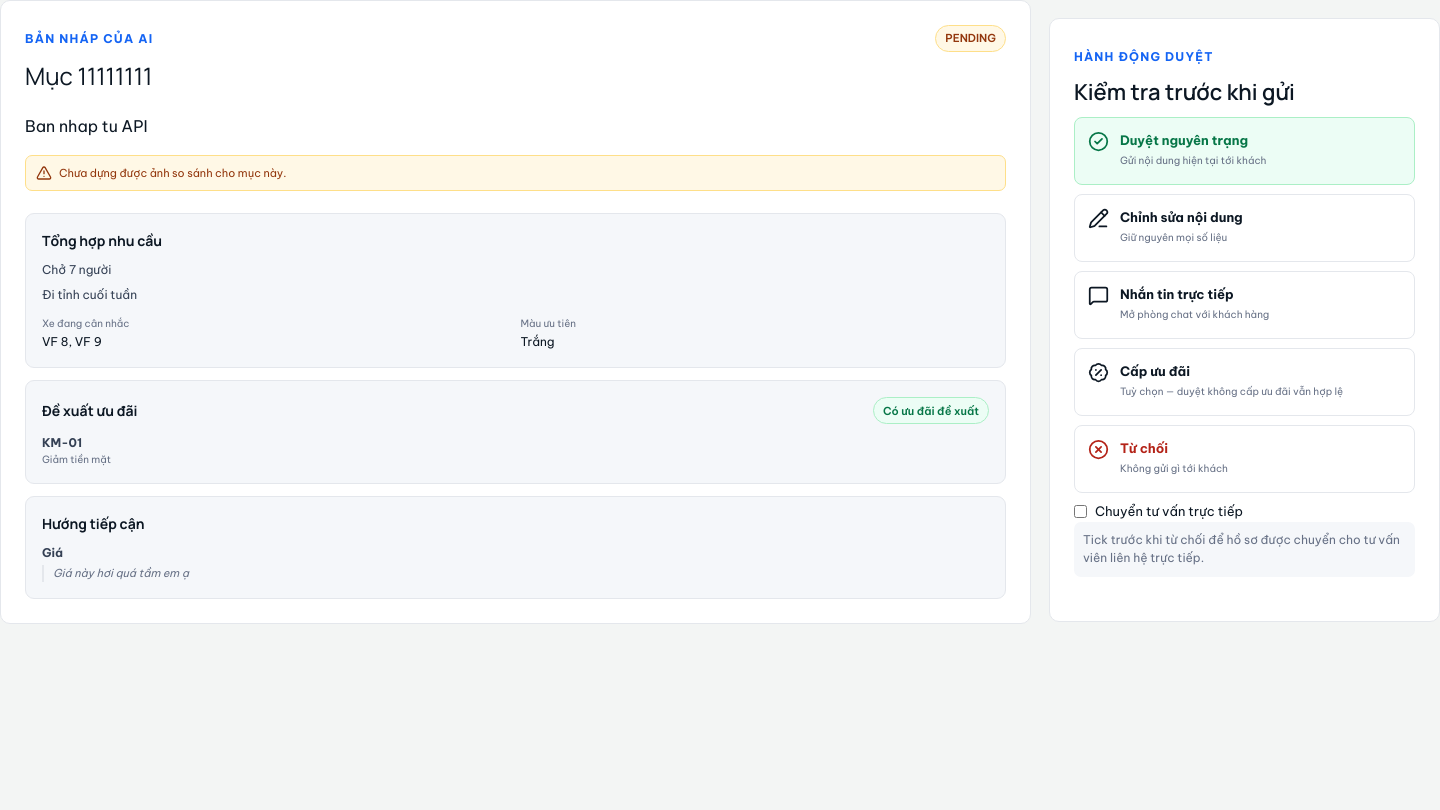
it: AdvisorReviewPanel — cấp ưu đãi là tuỳ chọn (D12) › duyệt nguyên trạng không cần chạm ưu đãi
The image size is (1440, 810).
Expected: the text "Ban nhap tu API" is shown, [25,116,148,136]
Click the button "Duyệt nguyên trạng Gửi nội dung hiện tại tới khách".
click(1244, 151)  # box [1074,117,1415,185]
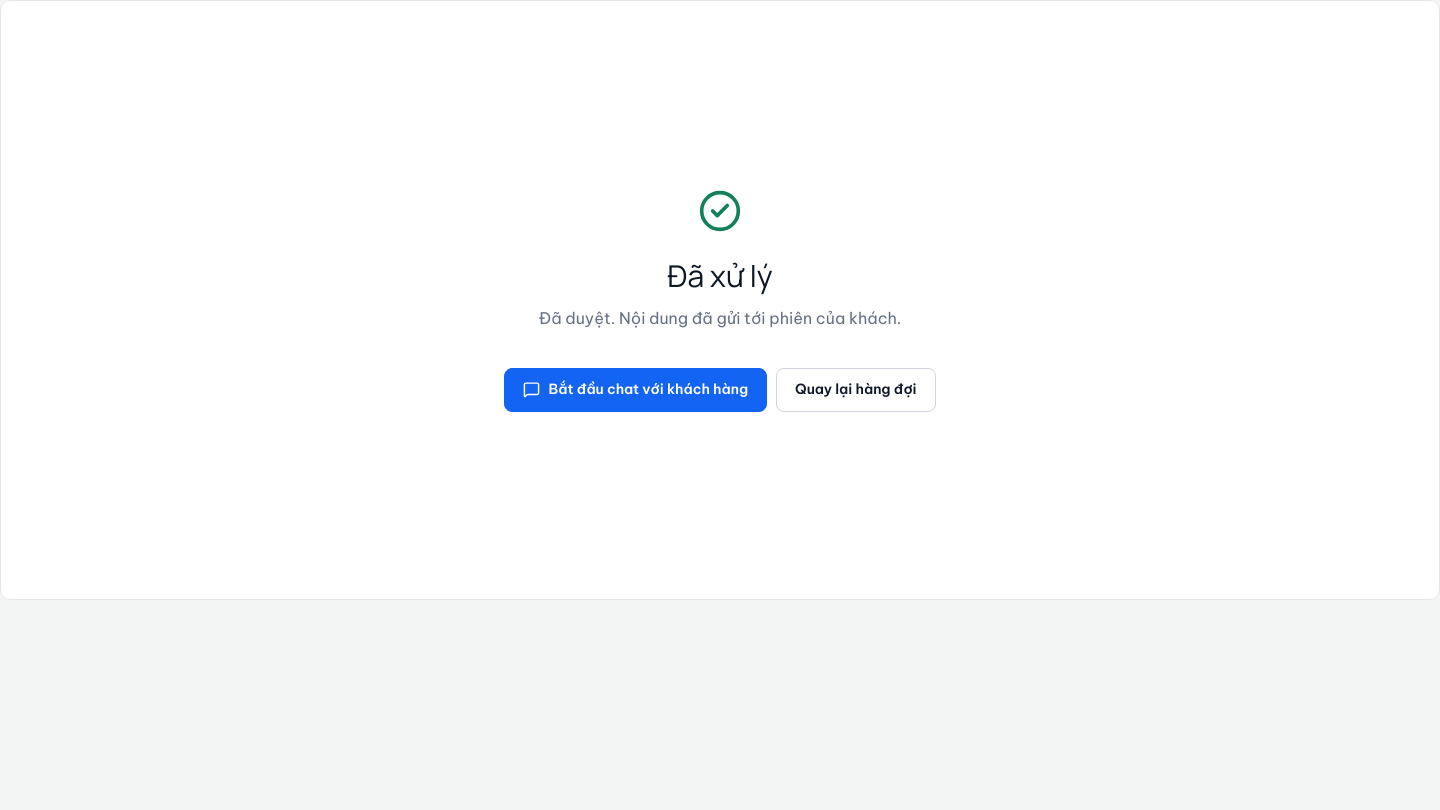
Expected: the text "Đã duyệt. Nội dung đã gửi tới phiên của khách." is shown, [539,306,901,330]
